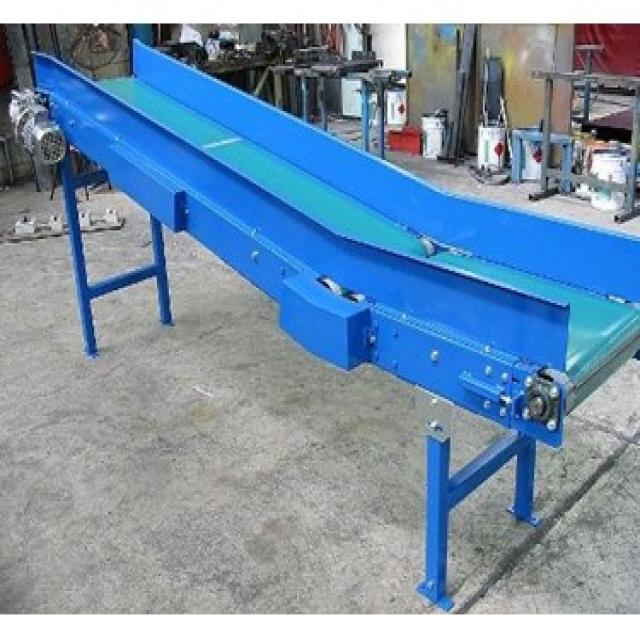conveyor: (44, 25, 640, 478)
